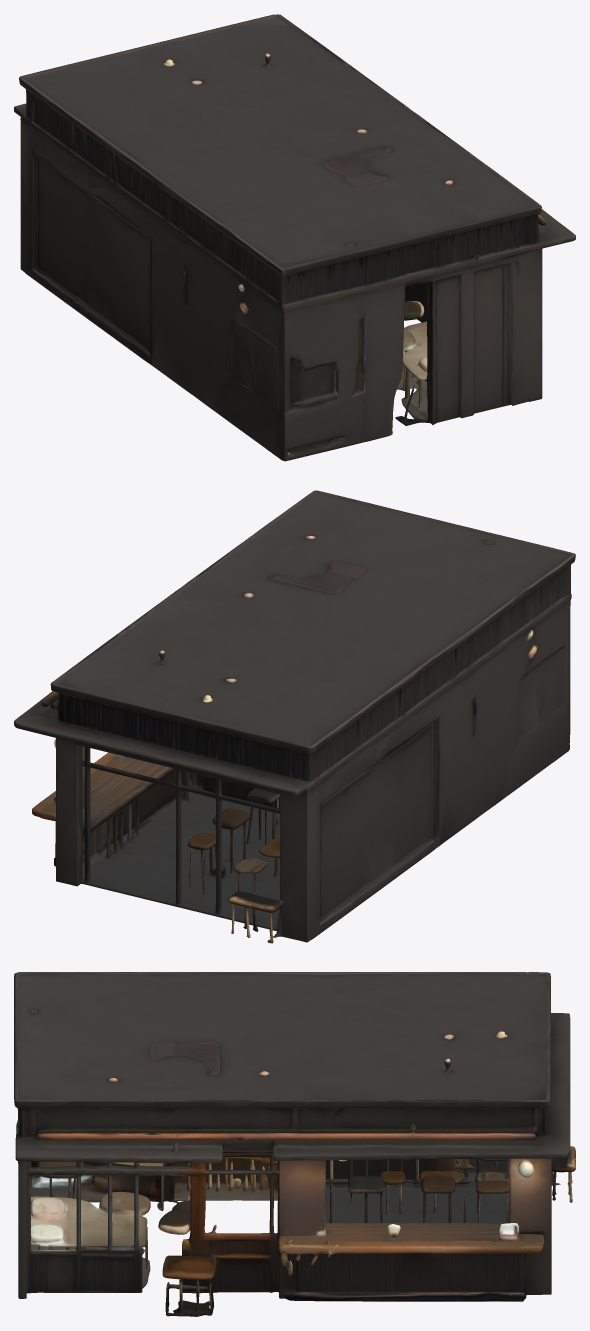
Rendered from building-bar.glb.
3 renders of one model, top to bottom at view 1: azimuth 30°, elevation 25°; view 2: azimuth 150°, elevation 25°; view 3: azimuth 270°, elevation 25°, orthographic.
Parts seen in each view (by area): view 1: tripo_node_b1741efb-f212-46a2-96c0-608a7884523e; view 2: tripo_node_b1741efb-f212-46a2-96c0-608a7884523e; view 3: tripo_node_b1741efb-f212-46a2-96c0-608a7884523e.
Part boxes in pixels (left/top/right/bottom): tripo_node_b1741efb-f212-46a2-96c0-608a7884523e: left=14, top=14, right=575, bottom=461; tripo_node_b1741efb-f212-46a2-96c0-608a7884523e: left=14, top=490, right=575, bottom=943; tripo_node_b1741efb-f212-46a2-96c0-608a7884523e: left=14, top=972, right=575, bottom=1316.
Bounding box in the file's own units: 12.41 × 8 × 19.37.
1 material, 1 textured.
